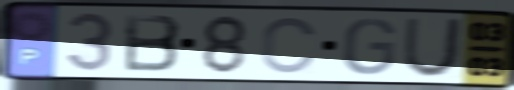3: (63, 10, 114, 74)
8: (199, 13, 253, 76)
B: (121, 12, 185, 74)
C: (259, 15, 321, 76)
G: (340, 16, 400, 77)
U: (400, 16, 465, 79)
